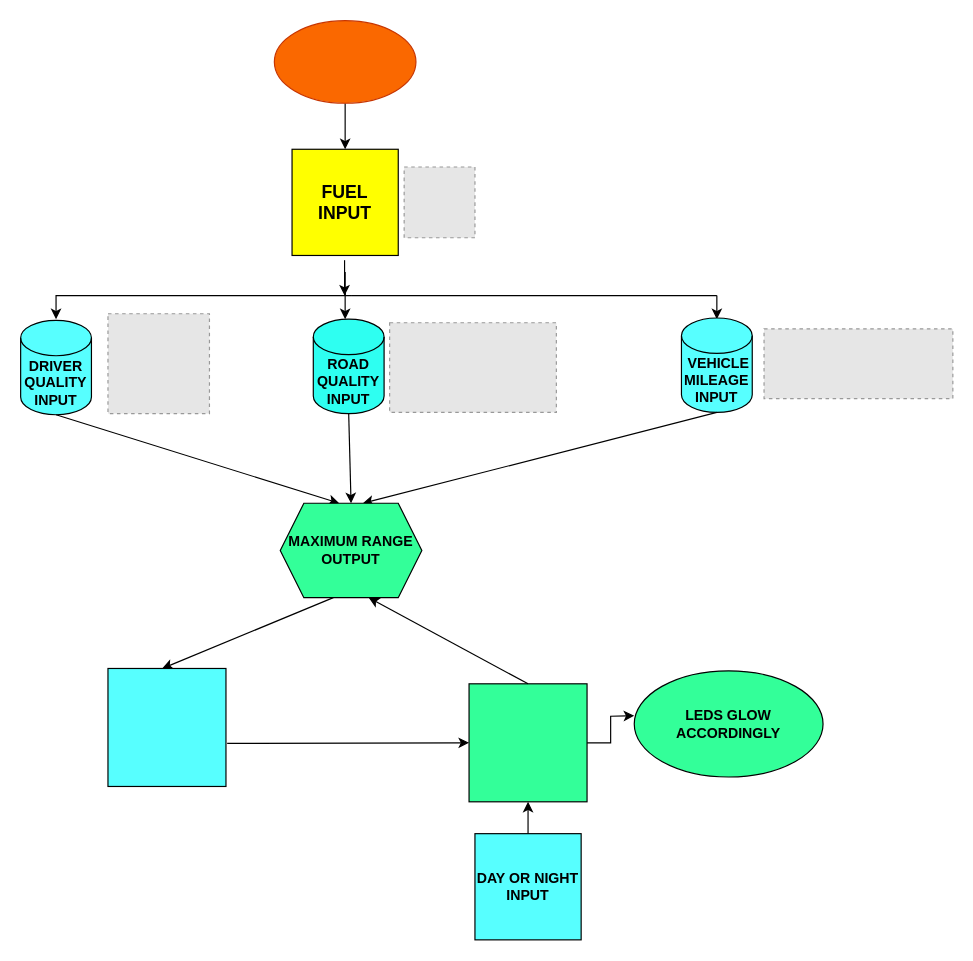
Some shapes in this 973 by 961 pixel diagram are drawn without their labels. Grey dashed boxes stand in for pictures. The shapes that lost their labels are listed below. From the top down, each one's centre as x and y in pixels, then its label:
At (x=344, y=61): "START".
At (x=166, y=726): "DISTANCE TRAVELLED INPUT".
At (x=527, y=742): "REMAINING FUEL".
